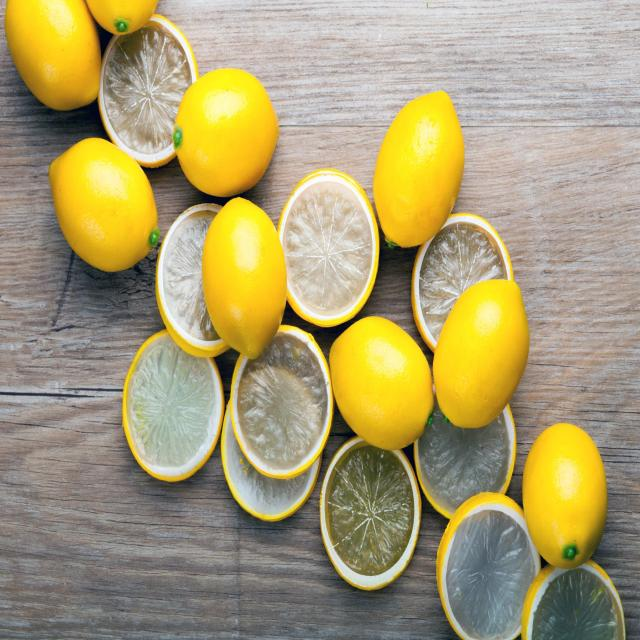lemon: (371, 86, 468, 251), (432, 275, 532, 435), (172, 64, 282, 200), (520, 419, 610, 571)
